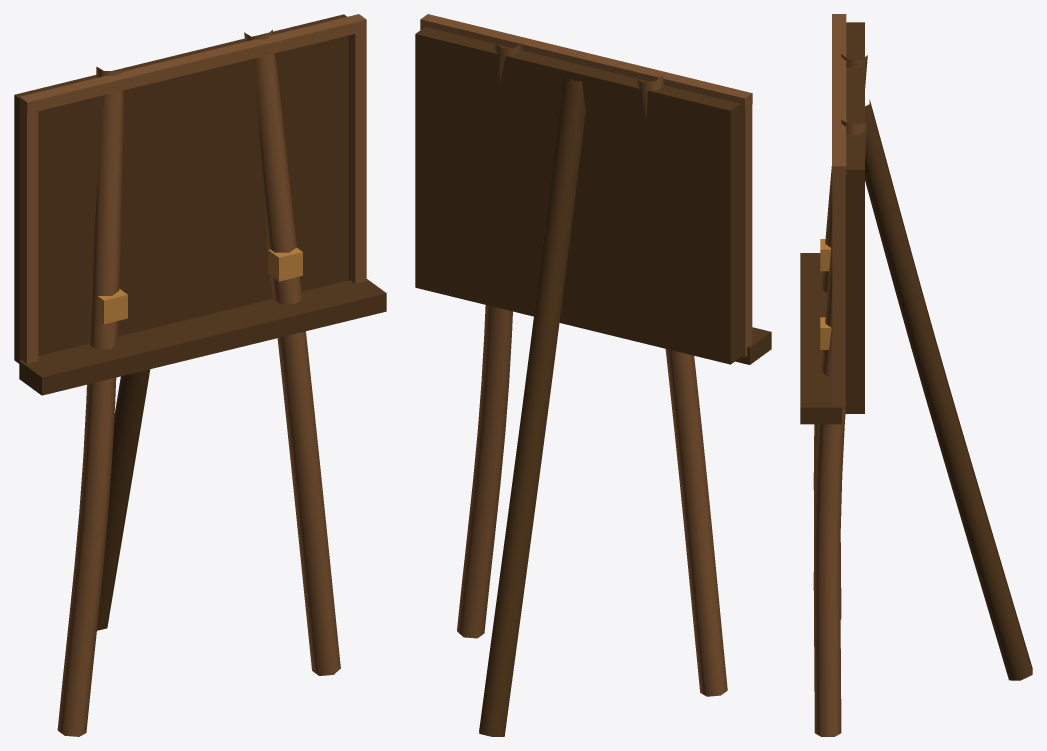
File: mia-easel.glb
3 renders of one model, left to right at view 1: azimuth 30°, elevation 25°; view 2: azimuth 150°, elevation 25°; view 3: azimuth 270°, elevation 25°, orthographic. The views are drawn at different scales.
Parts seen in each view (by area): view 1: Body_wood, Body_oak, Body_brass; view 2: Body_wood, Body_oak; view 3: Body_wood, Body_oak, Body_brass.
Boxes of the visible parts, x1=… form: Body_wood: x1=14, y1=14, x2=386, y2=630; Body_oak: x1=19, y1=14, x2=366, y2=736; Body_brass: x1=97, y1=247, x2=302, y2=324; Body_wood: x1=415, y1=27, x2=771, y2=736; Body_oak: x1=420, y1=14, x2=752, y2=696; Body_wood: x1=800, y1=22, x2=1032, y2=680; Body_oak: x1=813, y1=14, x2=867, y2=736; Body_brass: x1=820, y1=239, x2=831, y2=349.
Size of the model in its own units: 0.851 by 1.52 by 0.5411.
